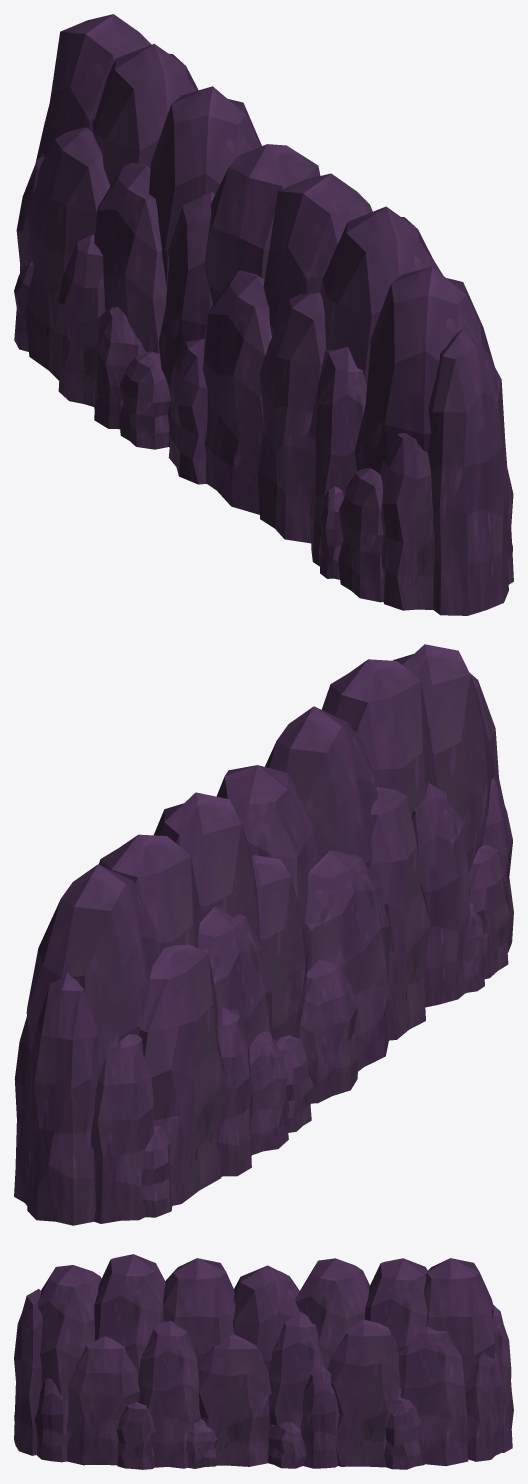
The model's file is ModelWall_Ura_Purple.fbx.
3 renders of one model, top to bottom at view 1: azimuth 30°, elevation 25°; view 2: azimuth 150°, elevation 25°; view 3: azimuth 270°, elevation 25°, orthographic. The views are drawn at different scales.
Parts seen in each view (by area): view 1: Kabe_Ura_Purple; view 2: Kabe_Ura_Purple; view 3: Kabe_Ura_Purple.
Part boxes in pixels (x1=…): Kabe_Ura_Purple: x1=14, y1=14, x2=513, y2=615; Kabe_Ura_Purple: x1=14, y1=644, x2=513, y2=1225; Kabe_Ura_Purple: x1=14, y1=1254, x2=513, y2=1469.
Size of the model in its own units: 23.23 by 38.93 by 92.04.
1 material, 1 textured.
